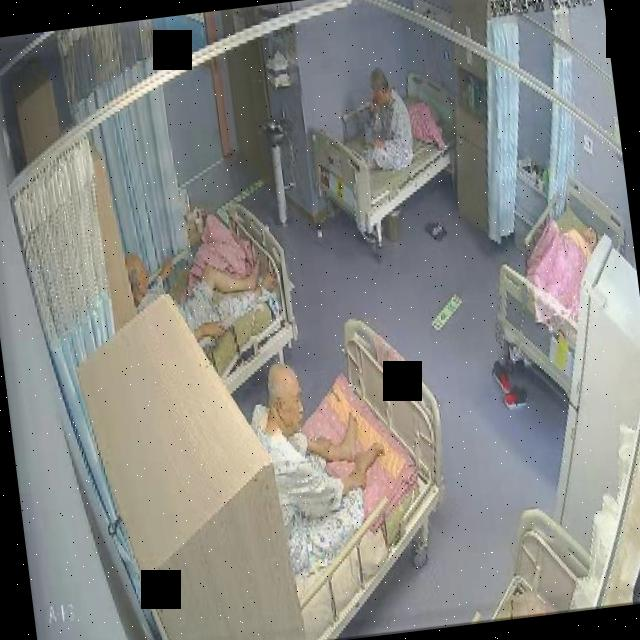bed: (234, 314, 466, 640), (478, 173, 640, 403), (148, 205, 302, 402), (306, 65, 466, 239)
patient: (242, 352, 398, 576), (122, 232, 284, 361), (354, 66, 417, 178)
sit: (240, 350, 398, 576), (123, 232, 284, 358), (355, 67, 418, 177)
